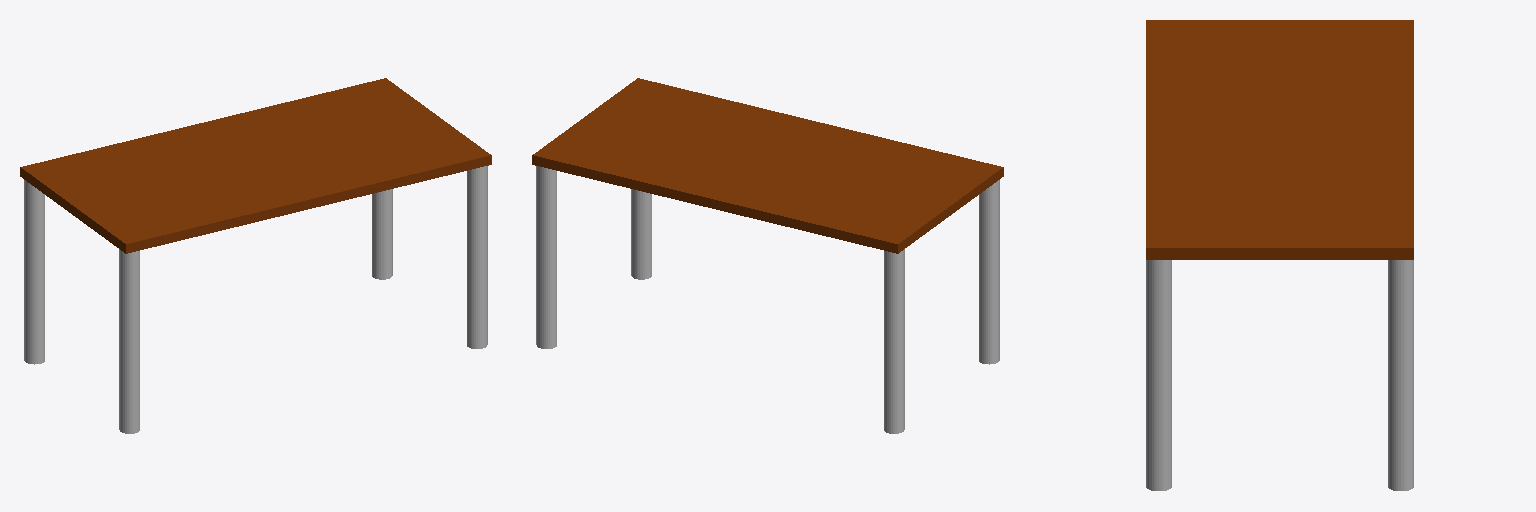
robot.urdf — table:
<?xml version="1.0"?>
<robot name="table">

<!-- define the colors -->
<material name="brown">
  <color rgba="0.54 0.27 0.07 1.0"/>
</material>
<material name="light_grey">
  <color rgba="0.8 0.8 0.8 1.0"/>
</material>

<!-- create link fixed to the "world" -->
<link name="world" />

<!-- Joint / Link Set -->
<!-- joint from "world" to "top"-->
<joint name="top" type="fixed">
  <origin rpy="0 0 0" xyz="0 0 1" />
  <parent link="world" />
  <child link="top_link" />
</joint>
  
<!-- Base Link -->
<link name="top_link">
  <visual>
    <origin rpy="0 0 0" xyz="0 0 0.025" />
    <geometry>
      <box size="2 1 .05" />
    </geometry>
    <material name="brown" />
  </visual>
</link>

<!-- Joint / Link Set -->s
<!-- joint from "top" to "leg1"-->
<joint name="leg1" type="fixed">
  <origin rpy="0 0 0" xyz="0.95 0.45 0" />
  <parent link="top_link" />
  <child link="leg1_link" />
</joint>
  
<!-- Leg1 Link -->
<link name="leg1_link">
  <visual>
    <origin rpy="0 0 0" xyz="0 0 -0.475" />
    <geometry>
      <cylinder length="0.95" radius="0.05"/>
    </geometry>
    <material name="light_grey" />
  </visual>
</link>

<!-- Joint / Link Set -->s
<!-- joint from "top" to "leg2"-->
<joint name="leg2" type="fixed">
  <origin rpy="0 0 0" xyz="-0.95 0.45 0" />
  <parent link="top_link" />
  <child link="leg2_link" />
</joint>
  
<!-- Leg2 Link -->
<link name="leg2_link">
  <visual>
    <origin rpy="0 0 0" xyz="0 0 -0.475" />
    <geometry>
      <cylinder length="0.95" radius="0.05"/>
    </geometry>
    <material name="light_grey" />
  </visual>
</link>

<!-- Joint / Link Set -->s
<!-- joint from "top" to "leg3"-->
<joint name="leg3" type="fixed">
  <origin rpy="0 0 0" xyz="0.95 -0.45 0" />
  <parent link="top_link" />
  <child link="leg3_link" />
</joint>
  
<!-- Leg3 Link -->
<link name="leg3_link">
  <visual>
    <origin rpy="0 0 0" xyz="0 0 -0.475" />
    <geometry>
      <cylinder length="0.95" radius="0.05"/>
    </geometry>
    <material name="light_grey" />
  </visual>
</link>

<!-- Joint / Link Set -->s
<!-- joint from "top" to "leg4"-->
<joint name="leg4" type="fixed">
  <origin rpy="0 0 0" xyz="-0.95 -0.45 0" />
  <parent link="top_link" />
  <child link="leg4_link" />
</joint>
  
<!-- Leg4 Link -->
<link name="leg4_link">
  <visual>
    <origin rpy="0 0 0" xyz="0 0 -0.475" />
    <geometry>
      <cylinder length="0.95" radius="0.05"/>
    </geometry>
    <material name="light_grey" />
  </visual>
</link>

</robot>

--- What the picture shows (computed from the rendered views, not written in the file) ---
3 views of the same robot in one strip: view 1: azimuth 30°, elevation 25°; view 2: azimuth 150°, elevation 25°; view 3: azimuth 270°, elevation 25° (orthographic).
Robot: table — 6 links, 5 joints (5 fixed); root link world; default pose: every joint at zero.
Visible links, largest first — view 1: top_link, leg4_link, leg3_link, leg2_link, leg1_link; view 2: top_link, leg2_link, leg1_link, leg4_link, leg3_link; view 3: top_link, leg1_link, leg3_link.
Link boxes in pixels (left/top/right/bottom): top_link: left=20, top=78, right=491, bottom=253; leg4_link: left=119, top=249, right=139, bottom=433; leg3_link: left=467, top=166, right=487, bottom=348; leg2_link: left=24, top=180, right=44, bottom=364; leg1_link: left=372, top=189, right=392, bottom=279; top_link: left=532, top=78, right=1003, bottom=253; leg2_link: left=884, top=249, right=904, bottom=433; leg1_link: left=536, top=166, right=556, bottom=348; leg4_link: left=979, top=180, right=999, bottom=364; leg3_link: left=631, top=189, right=651, bottom=279; top_link: left=1146, top=20, right=1413, bottom=259; leg1_link: left=1388, top=260, right=1413, bottom=490; leg3_link: left=1146, top=260, right=1171, bottom=490.
Size in the robot's own frame: 2 by 1 by 1 metres.
Geometry: primitives only (box / cylinder / sphere), no mesh files.
